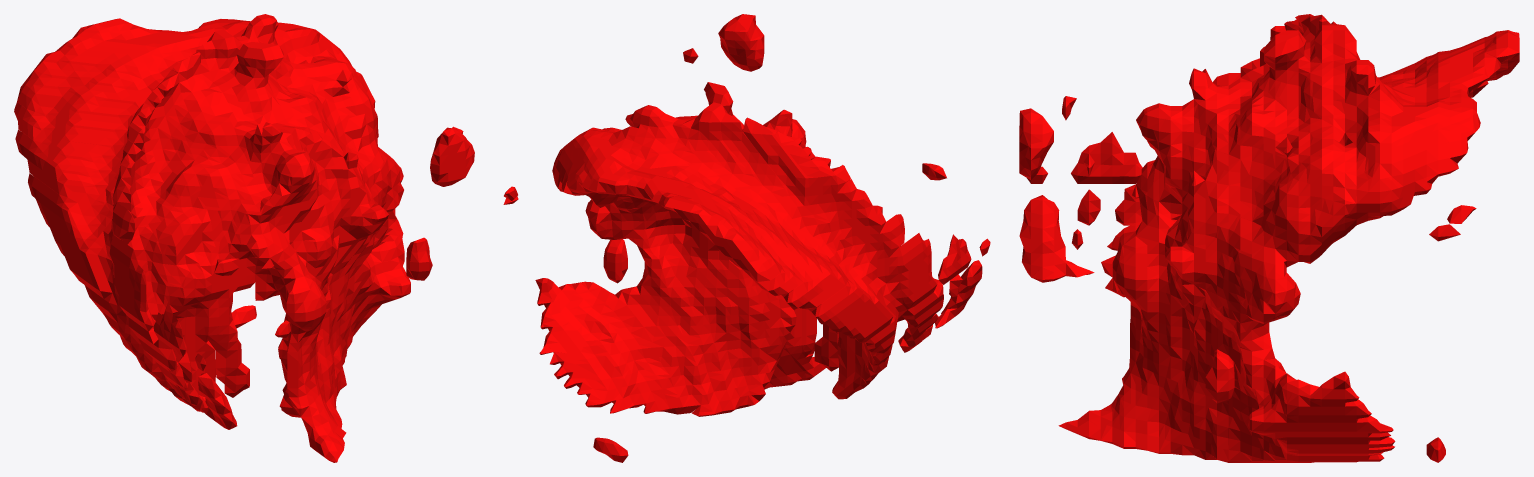
File: B939XXXX-1_valve_35.obj
3 renders of one model, left to right at view 1: azimuth 30°, elevation 25°; view 2: azimuth 150°, elevation 25°; view 3: azimuth 270°, elevation 25°, orthographic. The views are drawn at different scales.
Visible parts, largest first — view 1: 35_valve; view 2: 35_valve; view 3: 35_valve.
Boxes of the visible parts, box(x1,y1,x2,y2) form: 35_valve: box(14, 14, 474, 462); 35_valve: box(503, 14, 990, 462); 35_valve: box(1019, 14, 1519, 462).
Bounding box in the file's own units: 76.95 × 76.97 × 85.95.
